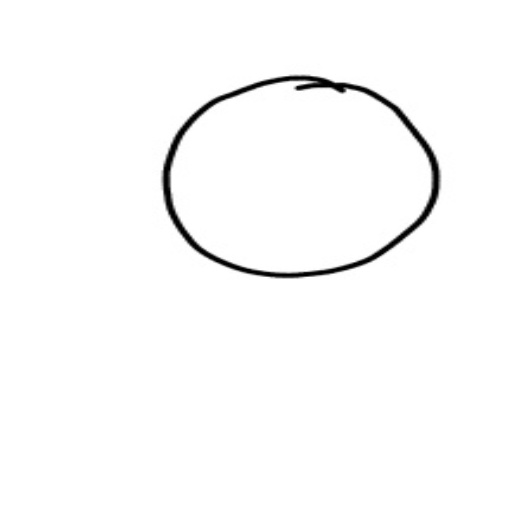circle: (155, 71, 449, 285)
